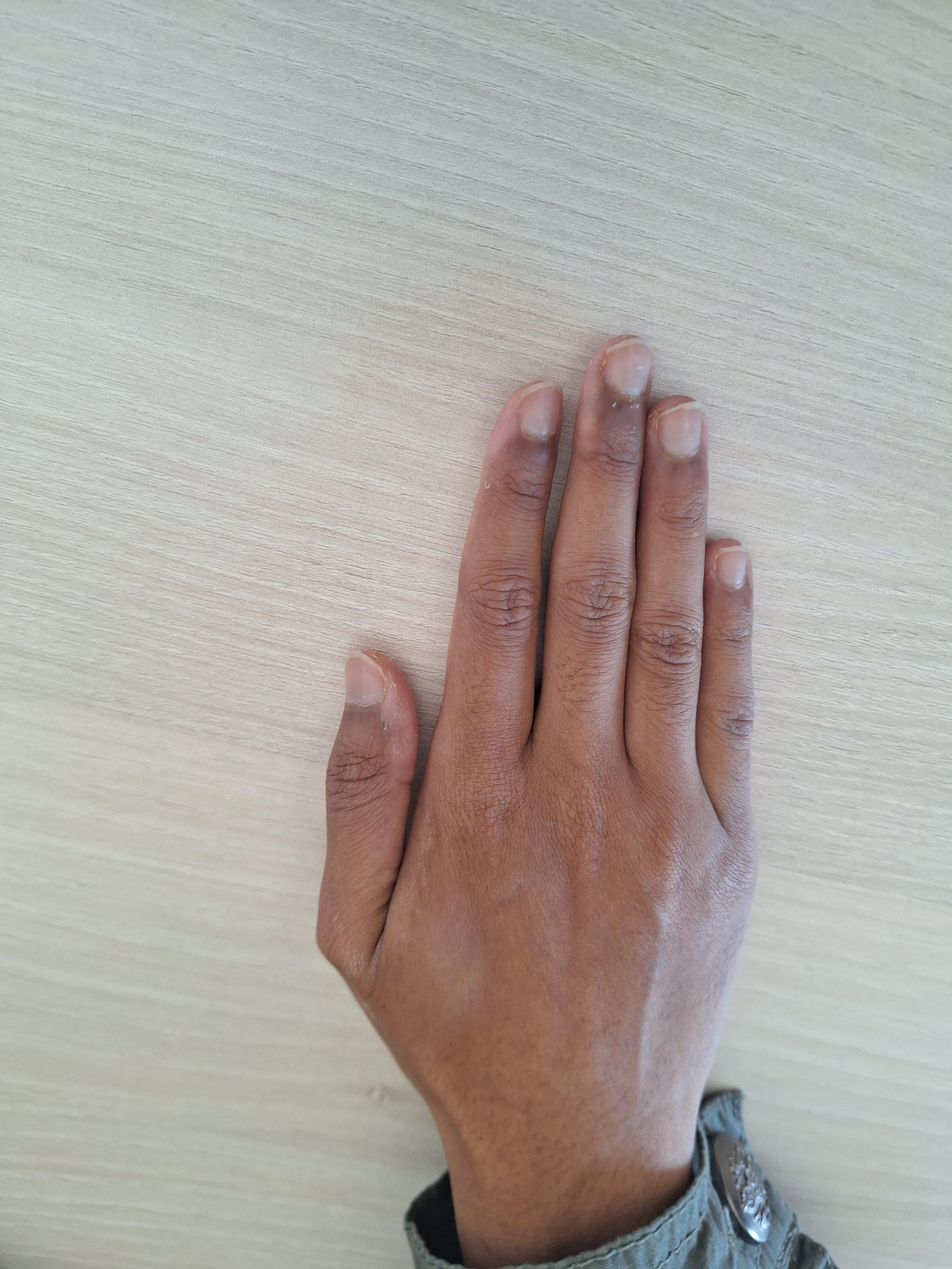Fingernail: (605, 338, 654, 394), (656, 401, 704, 457), (519, 381, 563, 437), (345, 651, 385, 707), (714, 545, 747, 587)
